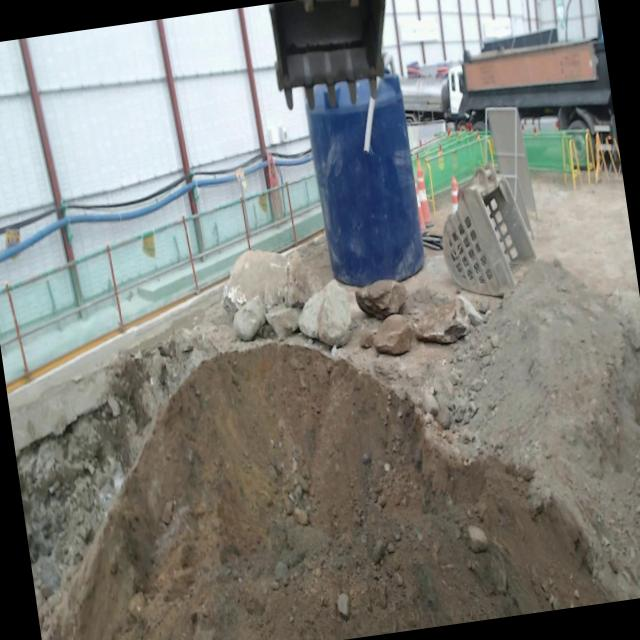stone: (223, 250, 313, 340), (298, 280, 352, 346), (406, 293, 469, 344), (355, 279, 407, 319), (373, 315, 414, 354), (266, 304, 301, 339)
white-sand: (15, 261, 640, 640)
